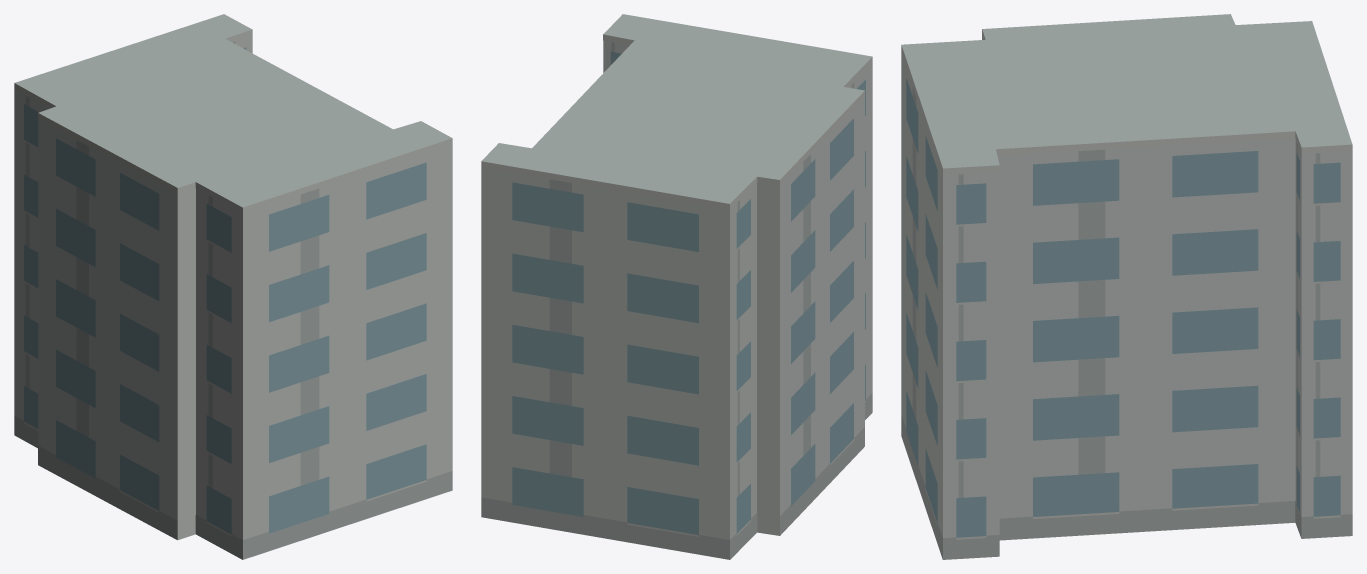
The model's file is survey-upis-32722052.glb.
3 views of the same model, side by side, from view 1: azimuth 30°, elevation 25°; view 2: azimuth 150°, elevation 25°; view 3: azimuth 270°, elevation 25° (orthographic). The views are drawn at different scales.
Parts seen in each view (by area): view 1: survey-upis-32722052.tmp; view 2: survey-upis-32722052.tmp; view 3: survey-upis-32722052.tmp.
Boxes of the visible parts, bbox=[...] form: survey-upis-32722052.tmp: bbox=[14, 14, 452, 559]; survey-upis-32722052.tmp: bbox=[481, 14, 872, 559]; survey-upis-32722052.tmp: bbox=[901, 14, 1352, 559].
Size of the model in its own units: 11.86 by 14 by 14.64.
